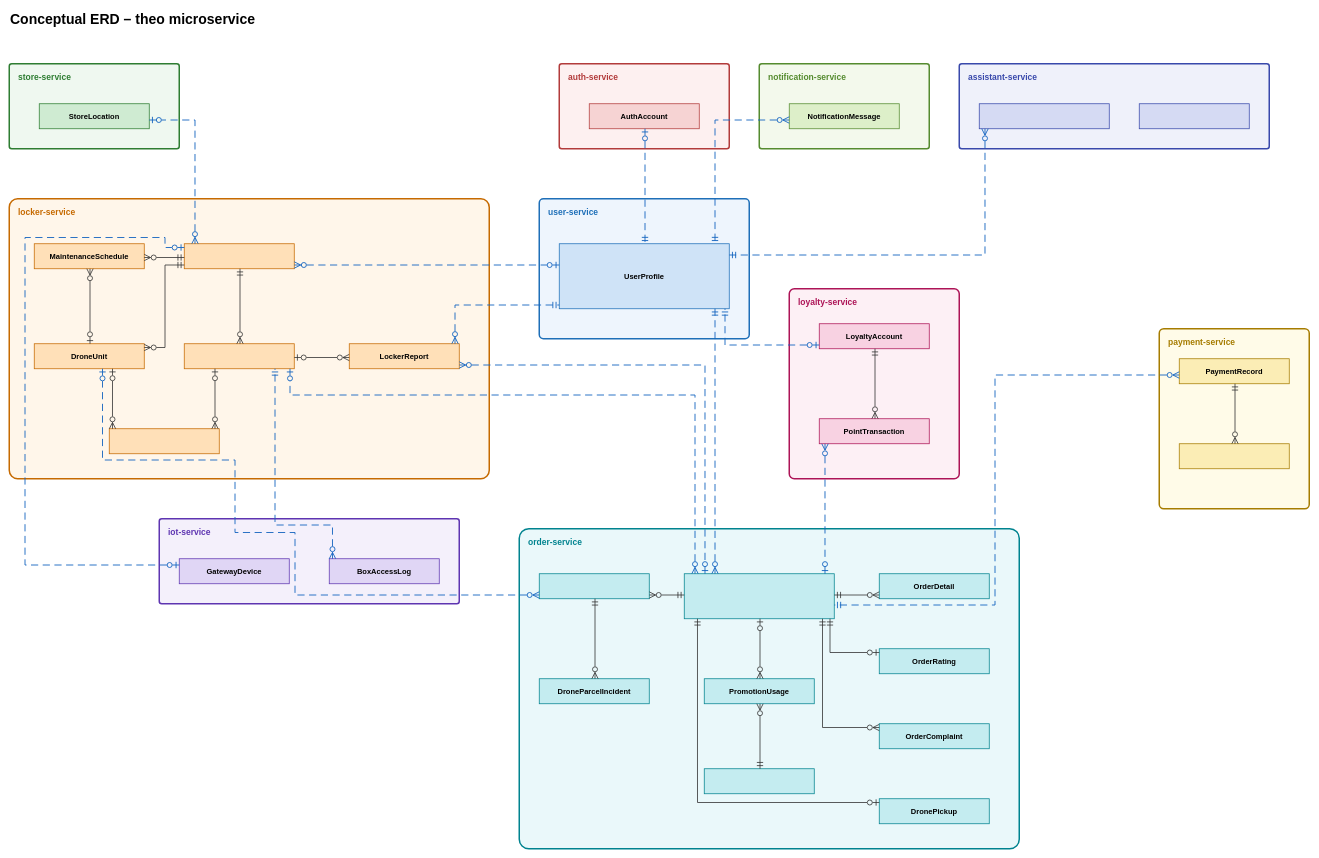
The diagram is 1319 pixels wide and 858 high, and some of its shapes have lost their labels. Each missing label, with the box of its shape:
AssistantConversation: (979, 103, 1109, 129)
DroneDeliveryRequest: (109, 428, 219, 454)
DroneMission: (539, 573, 649, 599)
KbDocument: (1139, 103, 1249, 129)
LockerBox: (184, 343, 294, 369)
LockerOrder: (684, 573, 834, 619)
LockerUnit: (184, 243, 294, 269)
Promotion: (704, 768, 814, 794)
RefundRecord: (1179, 443, 1289, 469)
